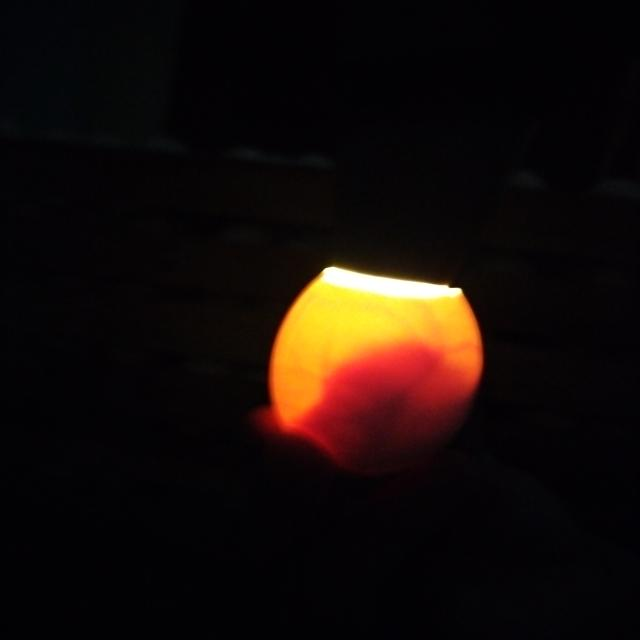Embriao: (292, 342, 474, 476)
